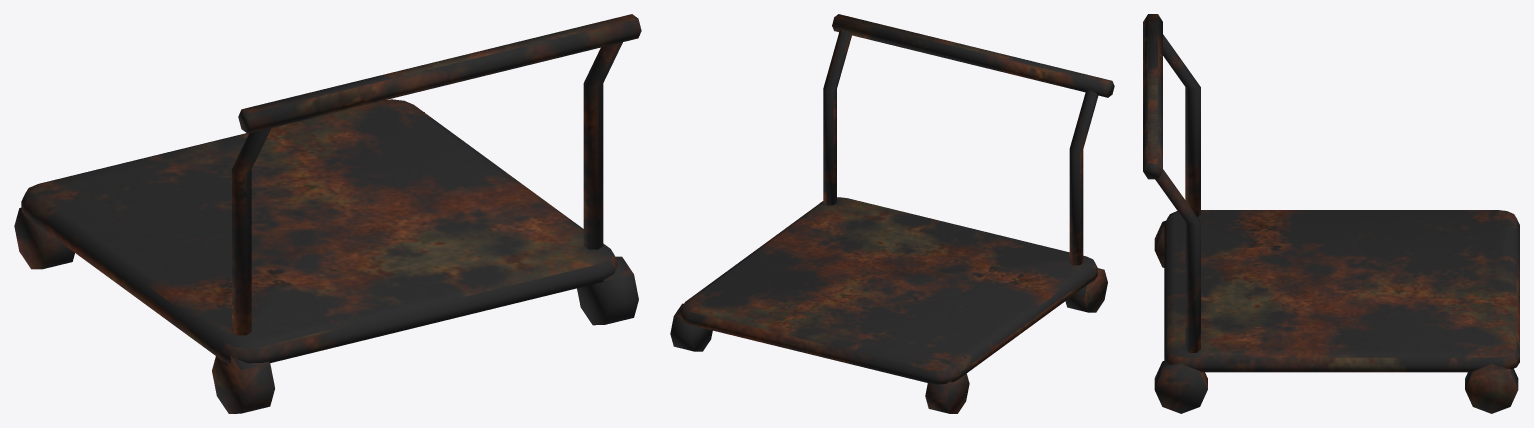
Rendered from MetalRackTray.fbx.
The picture shows the model from 3 angles, left to right: view 1: azimuth 30°, elevation 25°; view 2: azimuth 150°, elevation 25°; view 3: azimuth 270°, elevation 25°; orthographic projection. The views are drawn at different scales.
Parts seen in each view (by area): view 1: MetalRackTray; view 2: MetalRackTray; view 3: MetalRackTray.
Part boxes in pixels (bbox=[...]): MetalRackTray: bbox=[14, 14, 641, 413]; MetalRackTray: bbox=[670, 14, 1114, 413]; MetalRackTray: bbox=[1143, 14, 1519, 413].
Bounding box in the file's own units: 2021 × 1541 × 2119.
1 material, 1 textured.
